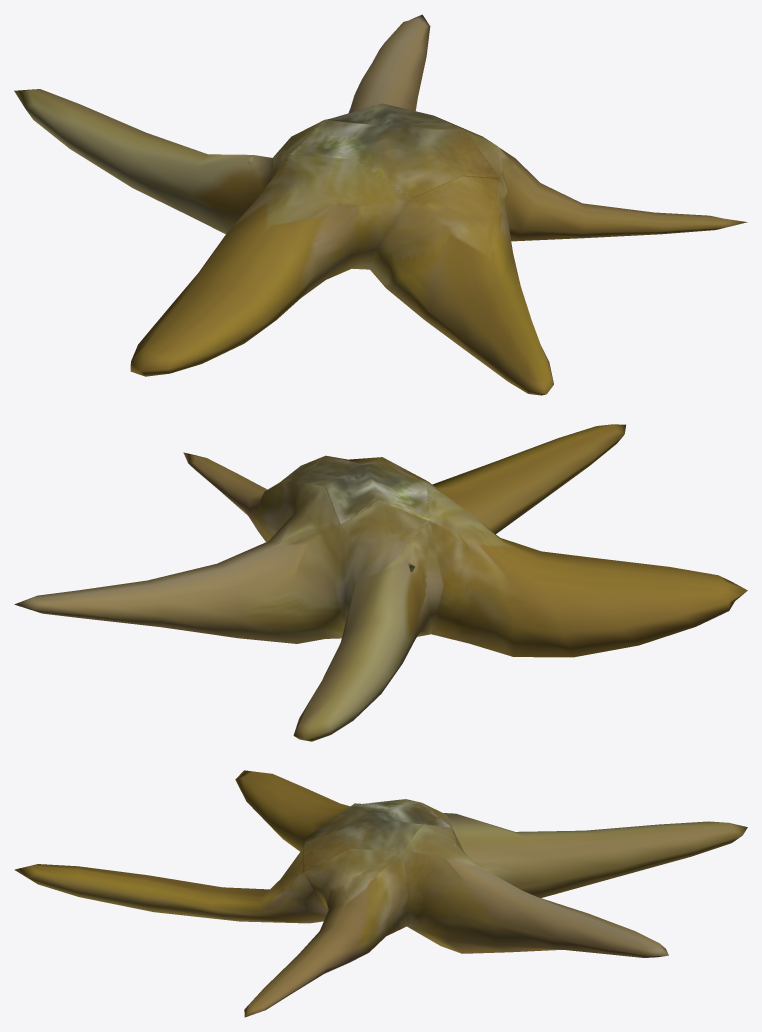
Rendered from starfish.fbx.
3 views of the same model, one above another, from view 1: azimuth 30°, elevation 25°; view 2: azimuth 150°, elevation 25°; view 3: azimuth 270°, elevation 25° (orthographic). The views are drawn at different scales.
Visible parts, largest first — view 1: Cylinder; view 2: Cylinder; view 3: Cylinder.
Part boxes in pixels (x1,y1,x2,y2): Cylinder: [14, 14, 747, 395]; Cylinder: [14, 424, 747, 741]; Cylinder: [14, 770, 747, 1017].
Bounding box in the file's own units: 25.99 × 6.4 × 32.51.
Materials: 1 (1 with a texture image).
